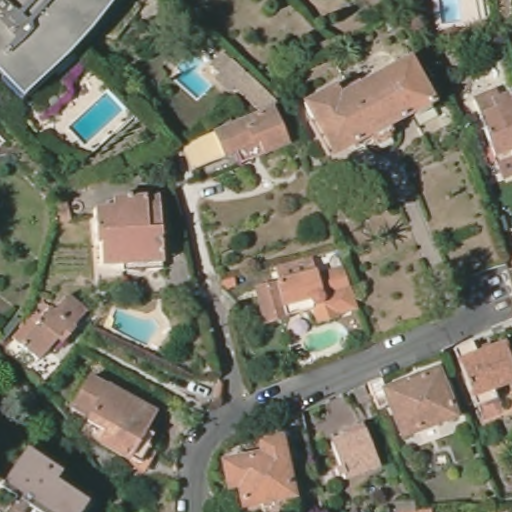pool: (64, 92, 123, 143), (111, 305, 162, 350), (171, 48, 212, 98), (300, 327, 345, 355), (436, 1, 468, 25)
